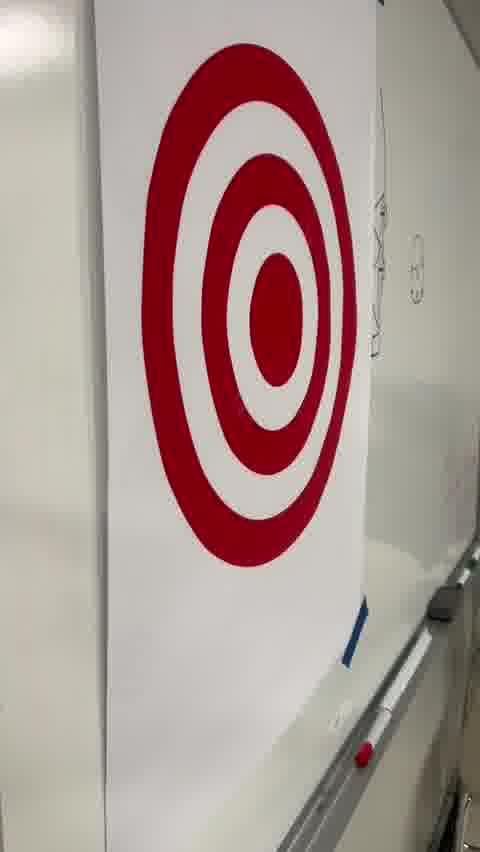target_red: (141, 45, 359, 570)
